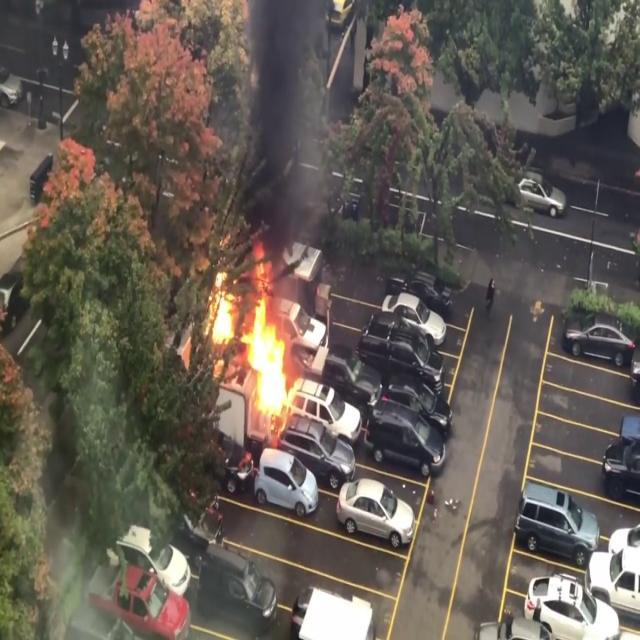Fire: (202, 248, 318, 422)
Smoke: (240, 0, 318, 233)
